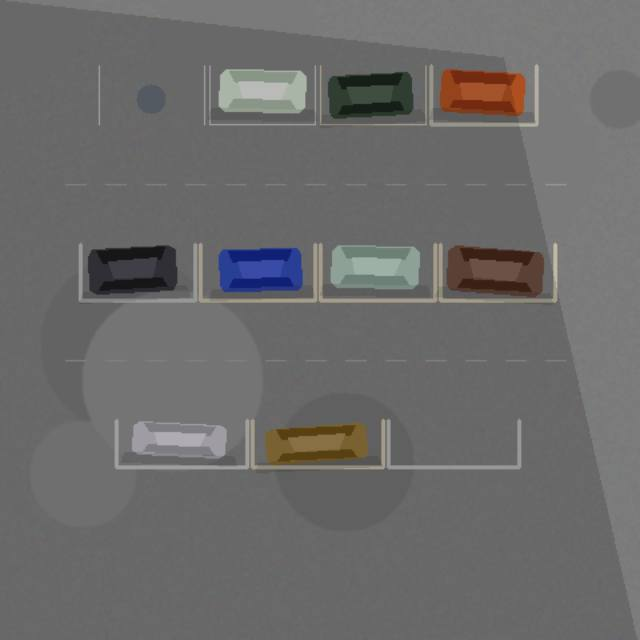space-empty: (99, 65, 204, 124), (388, 420, 519, 467)
space-occupied: (80, 244, 195, 300), (200, 244, 315, 300), (320, 244, 435, 300), (440, 244, 555, 300), (209, 65, 315, 124), (320, 65, 425, 124), (431, 65, 536, 124), (116, 420, 247, 467), (252, 420, 383, 467)
